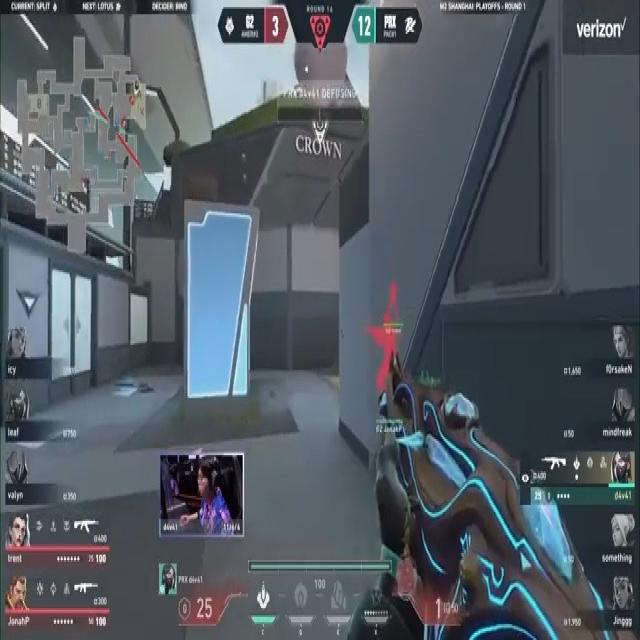enemy behind wall: (361, 306, 399, 393)
